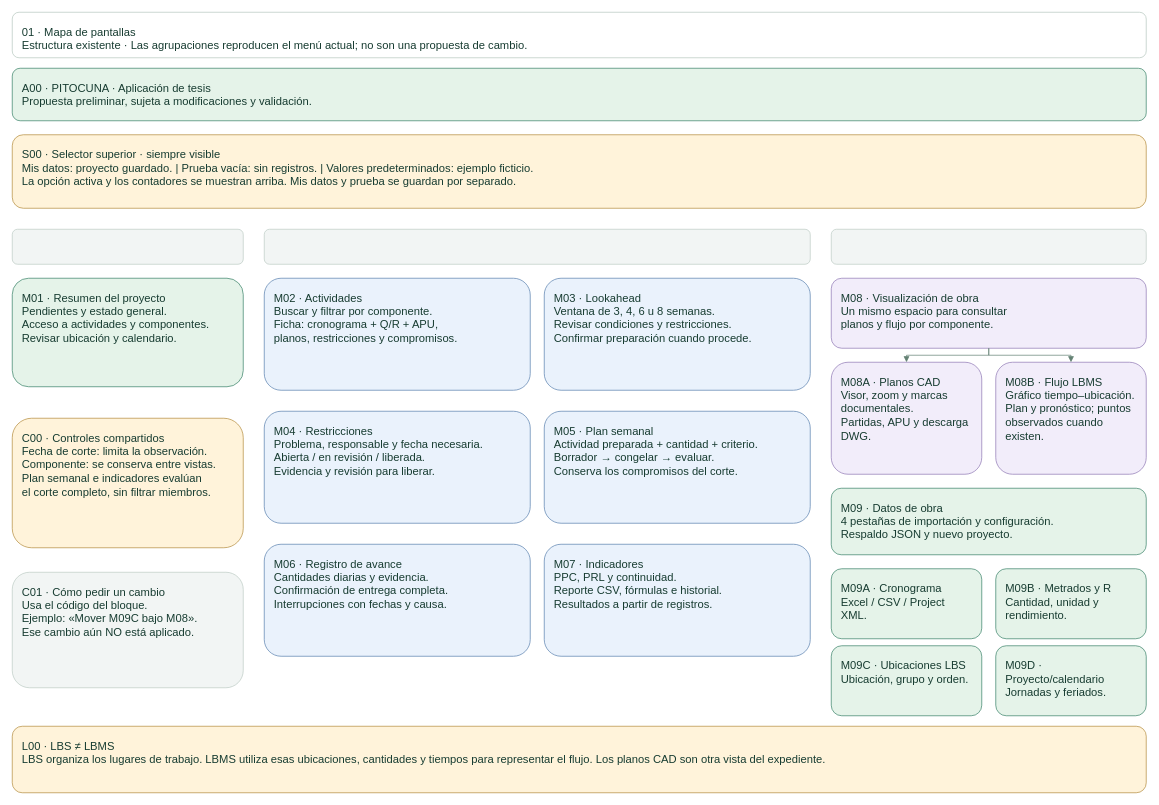
Image size: 1159x805. Some labels were removed from this diagram. The box of each missing label's shape, as (x1, y1, x2, y2) in pixels:
MENÚ · EXPEDIENTE Y CONFIGURACIÓN: (831, 229, 1146, 264)
MENÚ · PREPARAR Y EJECUTAR: (264, 229, 810, 264)
RESUMEN: (12, 229, 243, 264)
